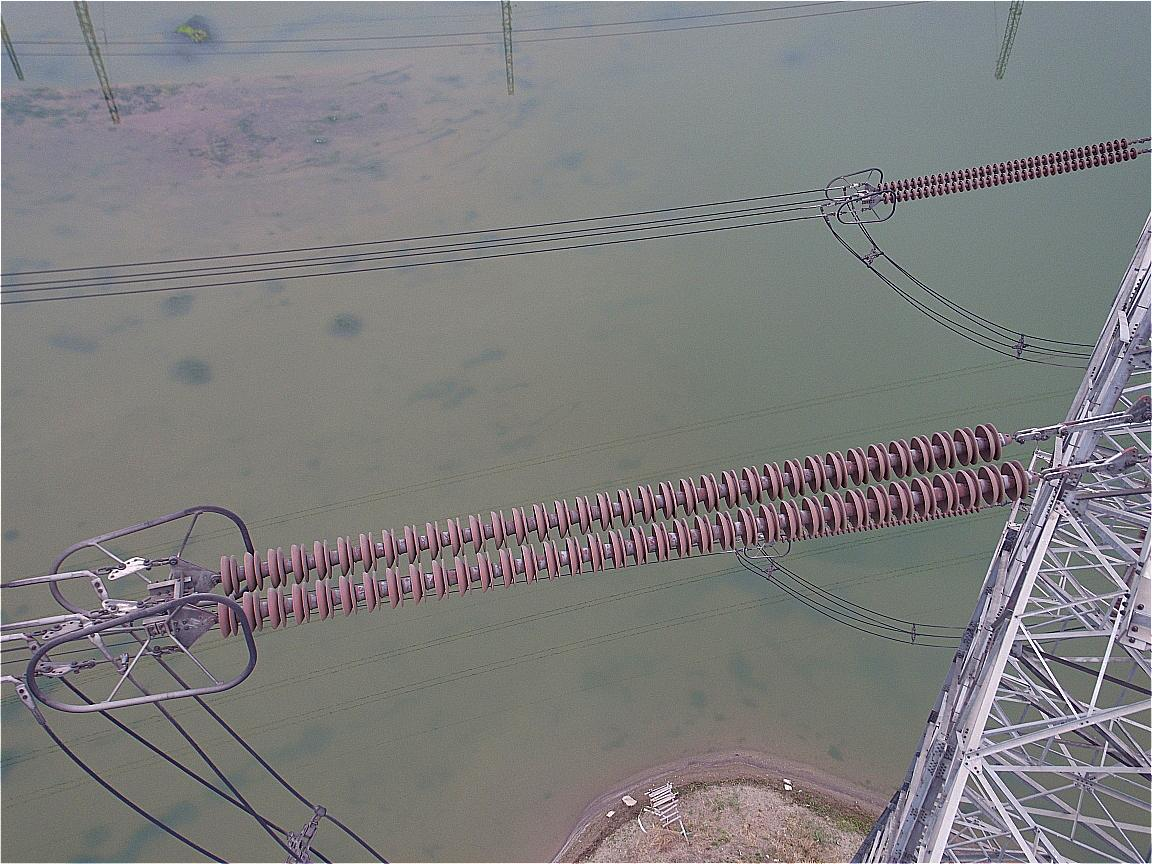insultor1: (874, 135, 1141, 205)
insultor2: (218, 421, 1031, 636)
